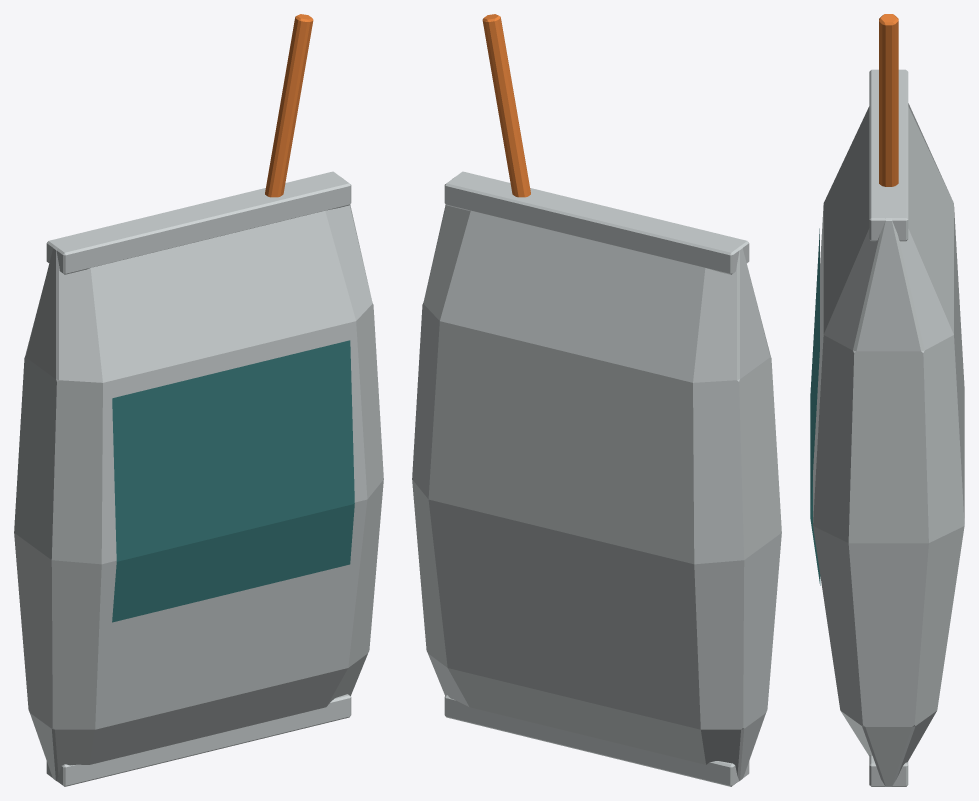
File: b16_foil_drink_pouch.glb
3 views of the same model, side by side, from view 1: azimuth 30°, elevation 25°; view 2: azimuth 150°, elevation 25°; view 3: azimuth 270°, elevation 25° (orthographic). The views are drawn at different scales.
Visible parts, largest first — view 1: b16_foil_drink_pouch; view 2: b16_foil_drink_pouch; view 3: b16_foil_drink_pouch.
Boxes of the visible parts, x1=… form: b16_foil_drink_pouch: x1=14, y1=14, x2=383, y2=786; b16_foil_drink_pouch: x1=412, y1=14, x2=781, y2=786; b16_foil_drink_pouch: x1=810, y1=14, x2=964, y2=786.
Size of the model in its own units: 0.0943 by 0.1913 by 0.0356.
